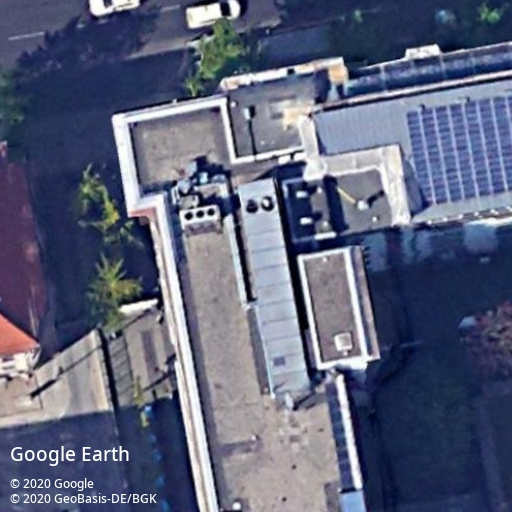Chiller: (178, 204, 221, 226)
